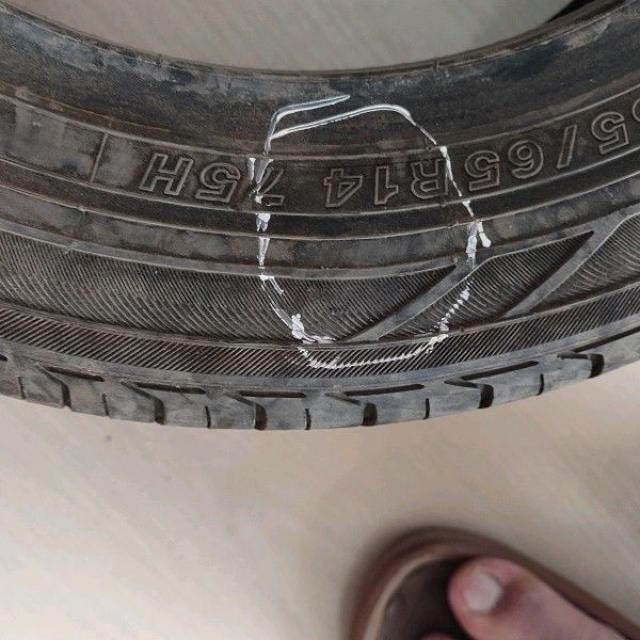Bulge: (266, 108, 467, 363)
